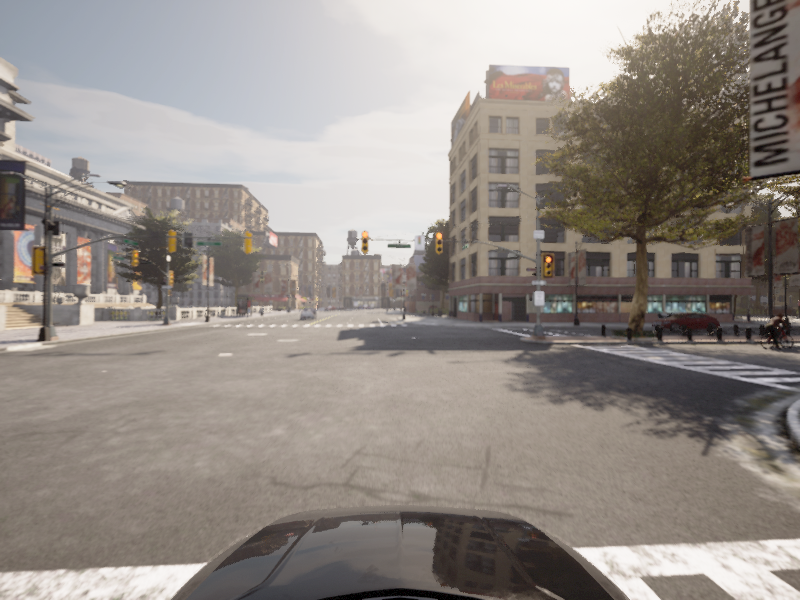vehicle: (754, 313, 799, 349), (647, 312, 724, 332)
